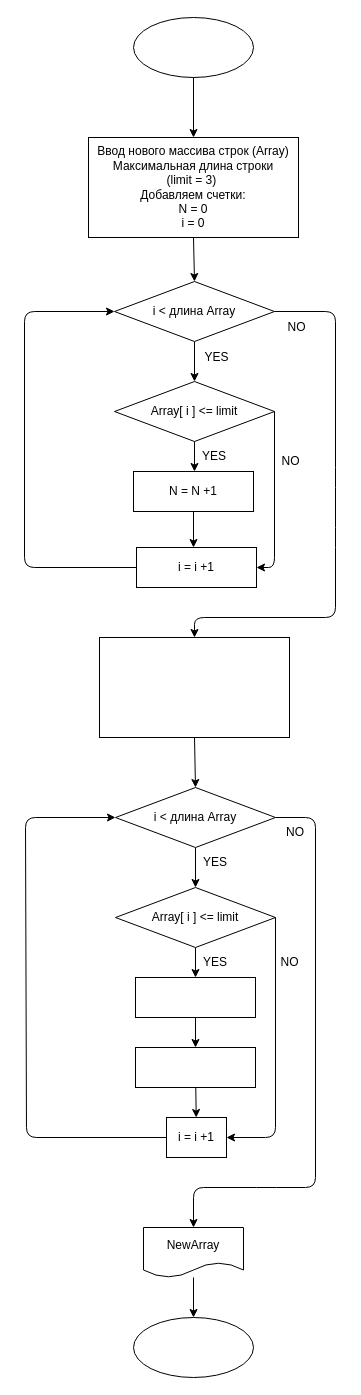
The diagram is 361 pixels wide and 1395 high, and some of its shapes have lost their labels. The centre of each missing label's shape, as x and y in pixels:
"END" belongs at point 193,1347.
"NewArray[ temp] = array[ i ]" belongs at point 195,997.
"Start" belongs at point 193,47.
"temp = temp +1" belongs at point 195,1067.
"Задаем новый массив (NewArray) c размером N Два счетчика: temp = 0 i = 0" belongs at point 194,687.
